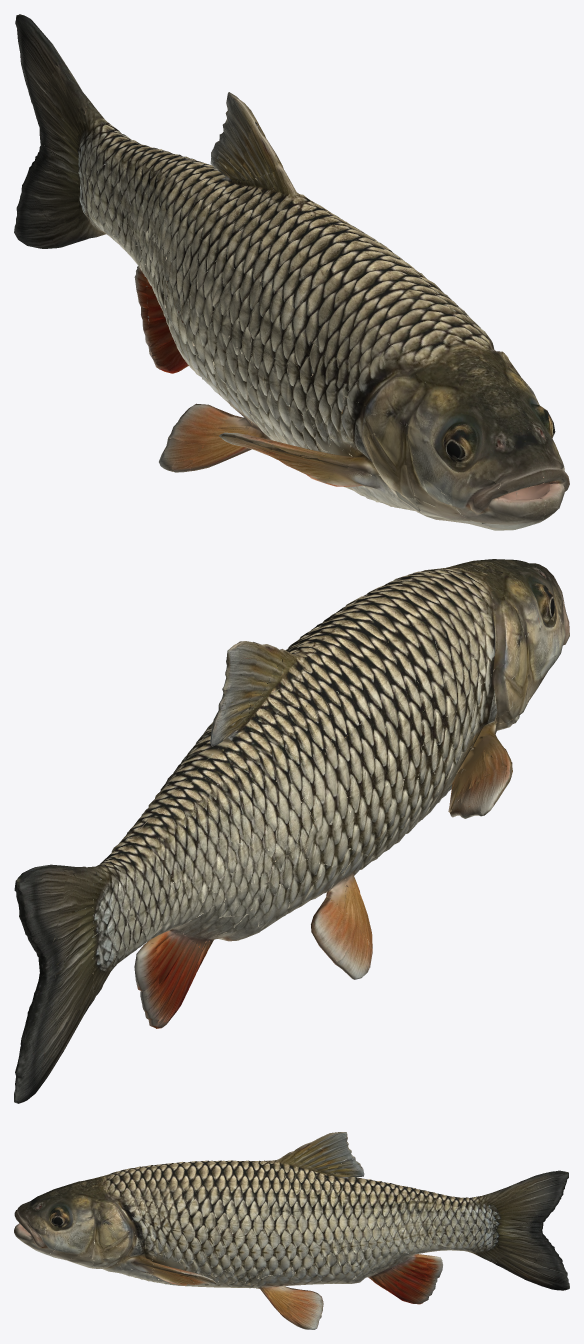
The model's file is klen.glb.
3 views of the same model, one above another, from view 1: azimuth 30°, elevation 25°; view 2: azimuth 150°, elevation 25°; view 3: azimuth 270°, elevation 25° (orthographic). The views are drawn at different scales.
Visible parts, largest first — view 1: Mesh_0; view 2: Mesh_0; view 3: Mesh_0.
Part boxes in pixels (box(x1,y1,x2,y2)): Mesh_0: box(14, 14, 569, 530); Mesh_0: box(14, 559, 569, 1103); Mesh_0: box(14, 1132, 569, 1329).
Size of the model in its own units: 0.5666 by 0.653 by 1.9.
1 material, 1 textured.
